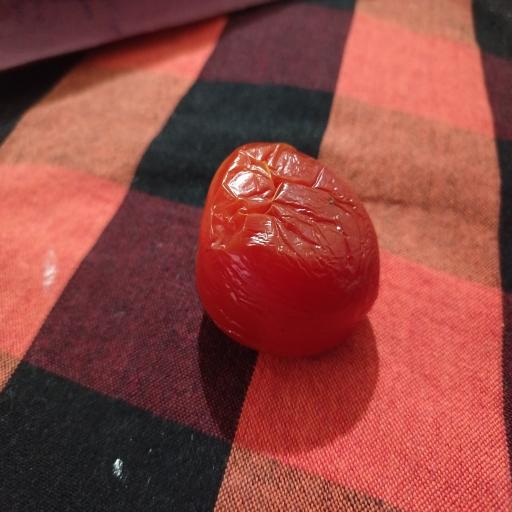spoiled: (196, 143, 379, 355)
